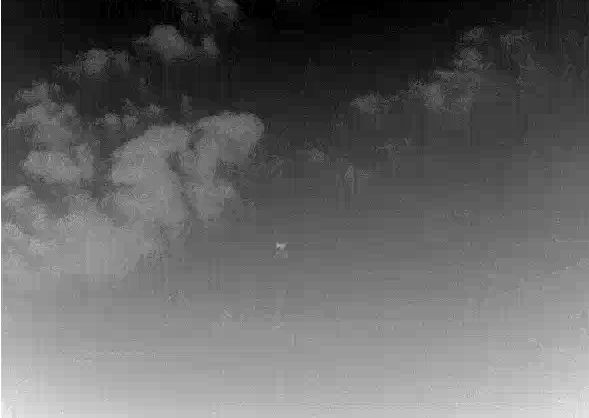dim target: (275, 242, 287, 250)
